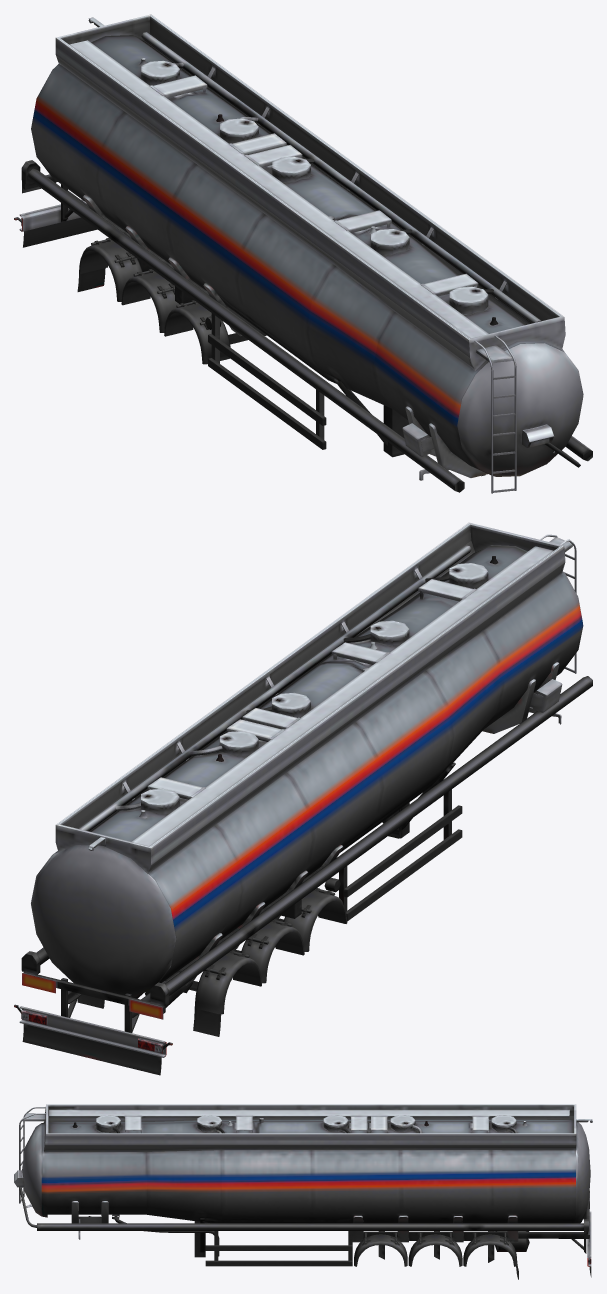
The model's file is Oil Tankernew1.fbx.
The picture shows the model from 3 angles, top to bottom: view 1: azimuth 30°, elevation 25°; view 2: azimuth 150°, elevation 25°; view 3: azimuth 270°, elevation 25°; orthographic projection. The views are drawn at different scales.
Parts seen in each view (by area): view 1: Chassis; view 2: Chassis; view 3: Chassis.
Part boxes in pixels (<box>): Chassis: <box>14,14,592,493</box>; Chassis: <box>14,522,592,1075</box>; Chassis: <box>14,1104,592,1279</box>.
Bounding box in the file's own units: 639 × 834 × 3161.
Materials: 1 (1 with a texture image).
